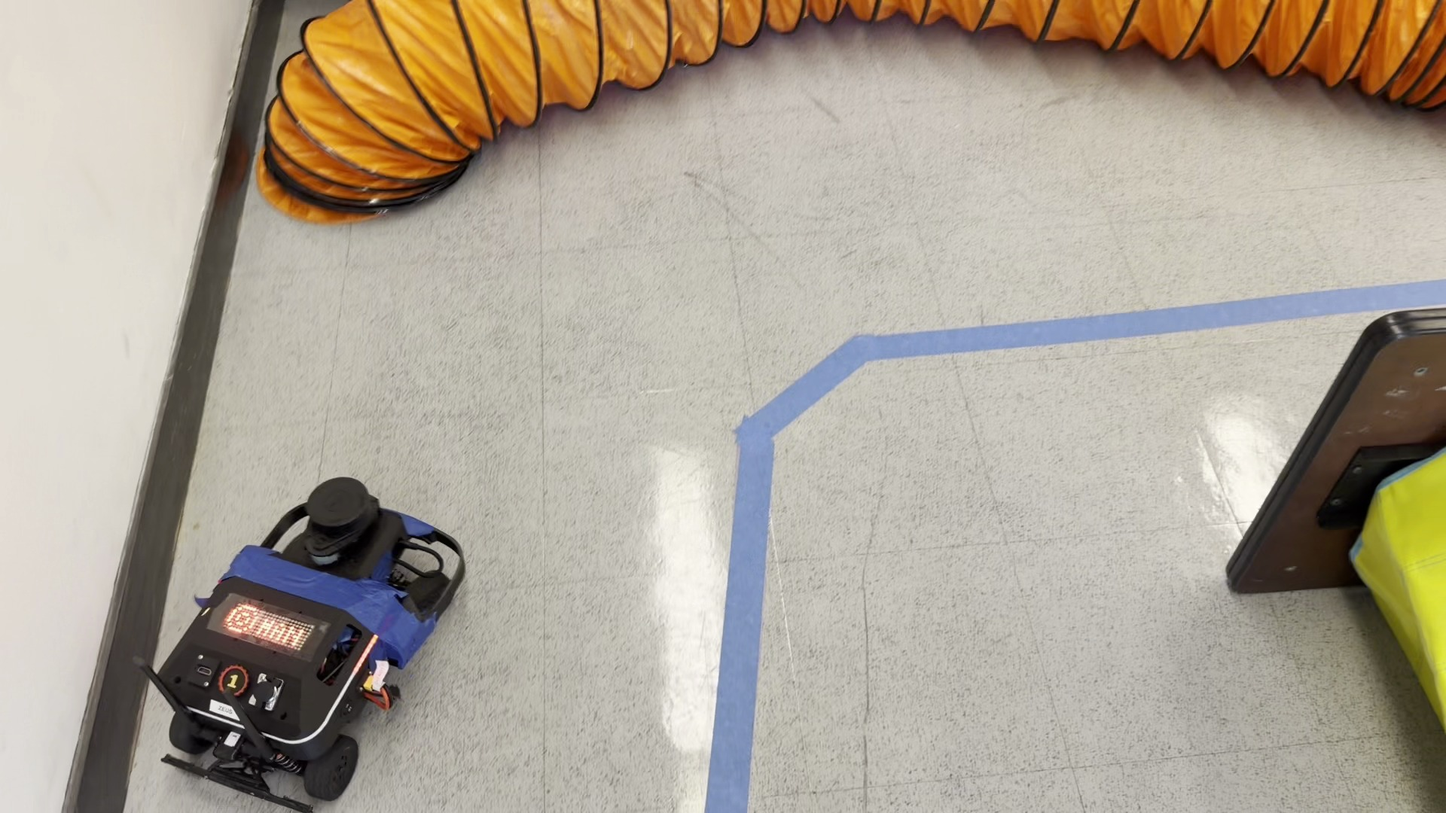racecar: (152, 474, 466, 810)
